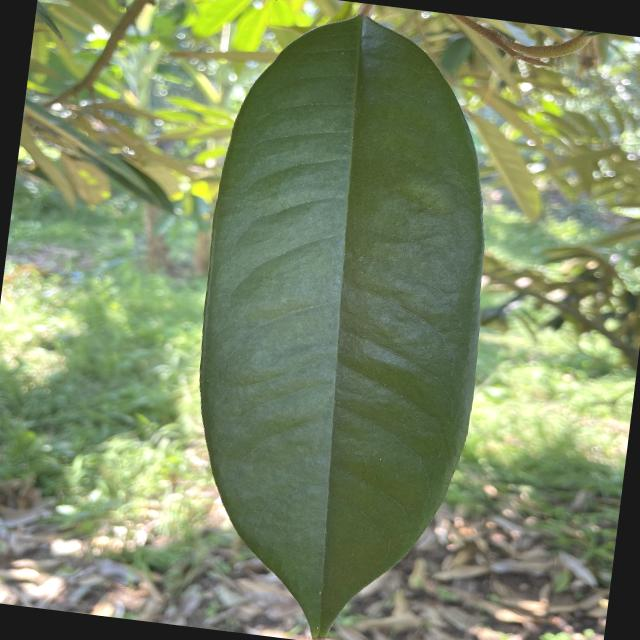No Disease: (159, 0, 526, 639)
